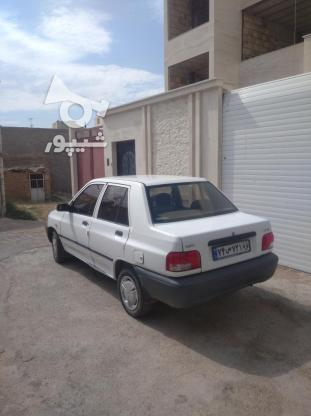car: (211, 237, 251, 261)
